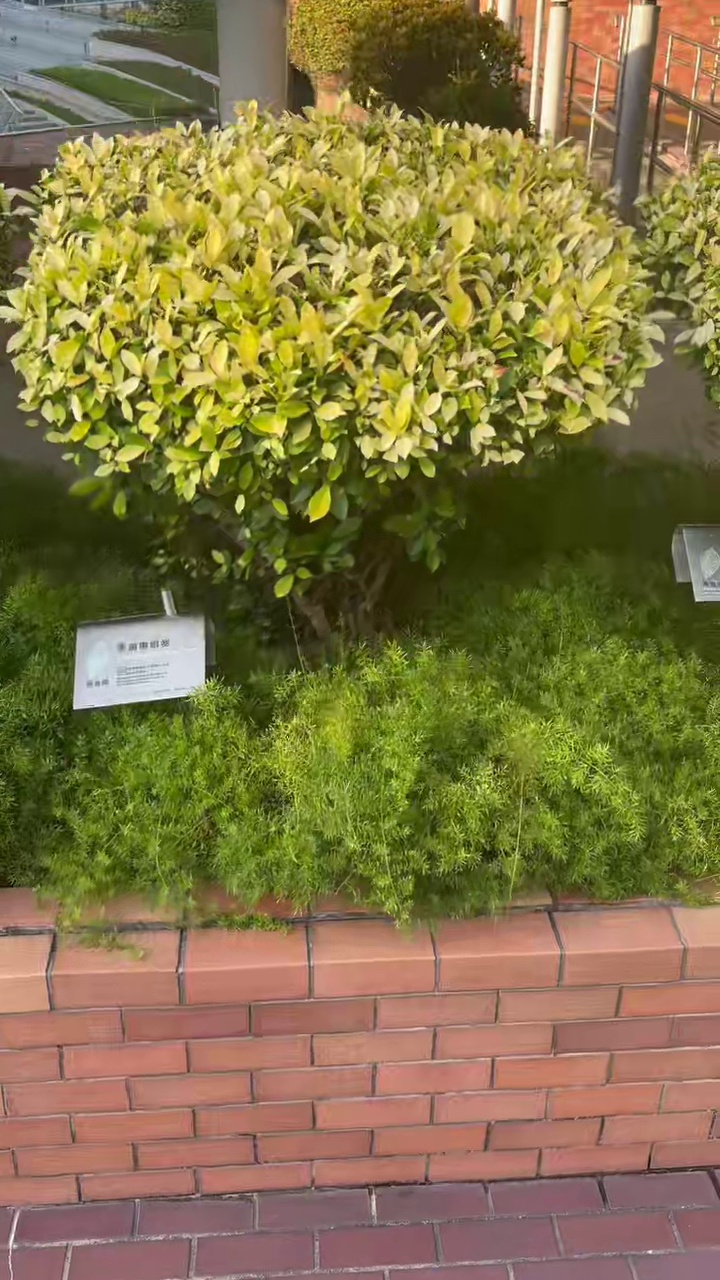Golden-leaves Fig: (4, 102, 660, 633)
